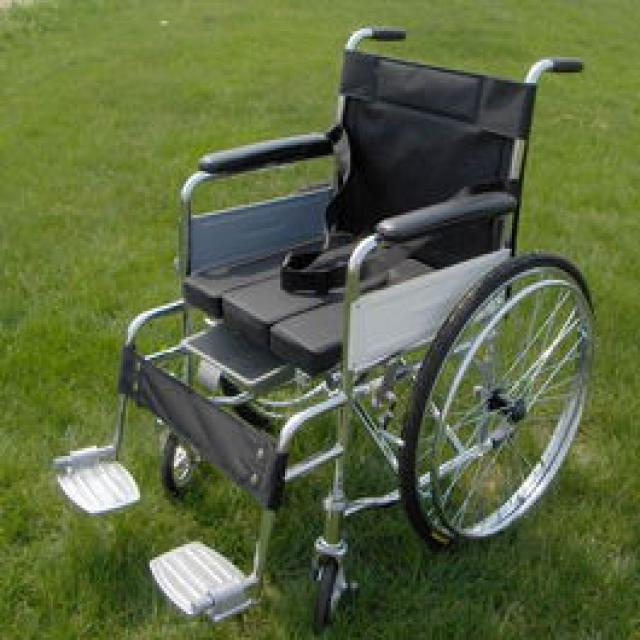wheelchairs: (56, 34, 596, 629)
